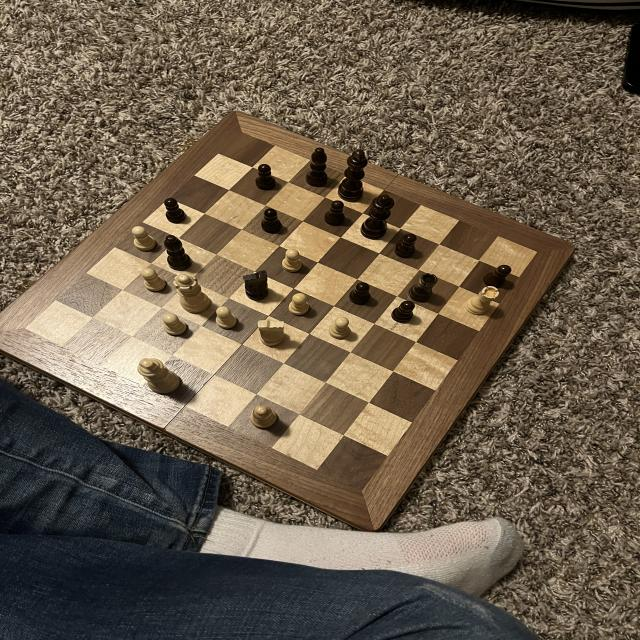bishop: (163, 233, 195, 272), (305, 147, 333, 190)
black-bishop: (336, 147, 371, 205)
black-king: (238, 269, 274, 303)
black-knight: (479, 262, 514, 290), (160, 196, 192, 226), (129, 223, 160, 253), (138, 266, 170, 294), (259, 207, 288, 236), (161, 312, 190, 338), (280, 246, 306, 275), (285, 290, 314, 316), (324, 198, 349, 228), (390, 299, 417, 326), (254, 163, 279, 192), (215, 305, 240, 332), (328, 317, 354, 342), (394, 234, 418, 261), (348, 282, 372, 306)
black-pawn: (359, 192, 396, 242)
black-queen: (408, 272, 440, 305)
black-rook: (249, 402, 280, 434)
white-bishop: (137, 355, 184, 396)
white-king: (252, 316, 290, 349)
white-pawn: (171, 272, 211, 313)
white-queen: (460, 285, 503, 317)
